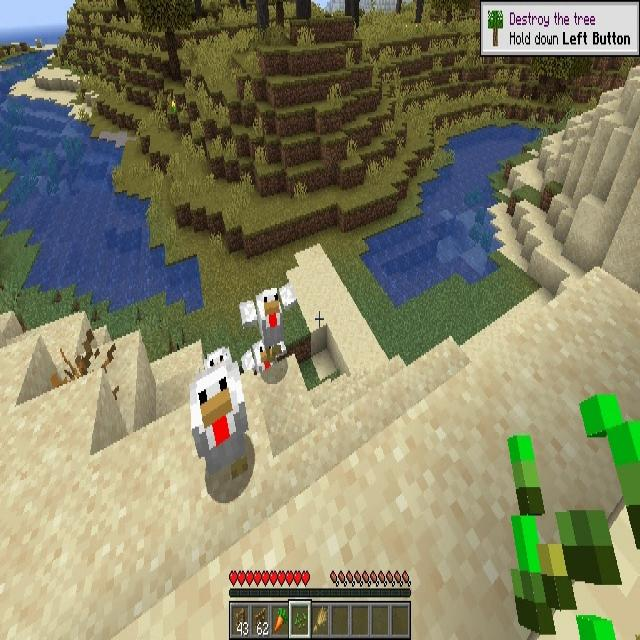duck: (191, 369, 247, 479), (238, 286, 286, 346), (242, 340, 277, 373), (206, 347, 238, 375), (279, 280, 297, 314)
